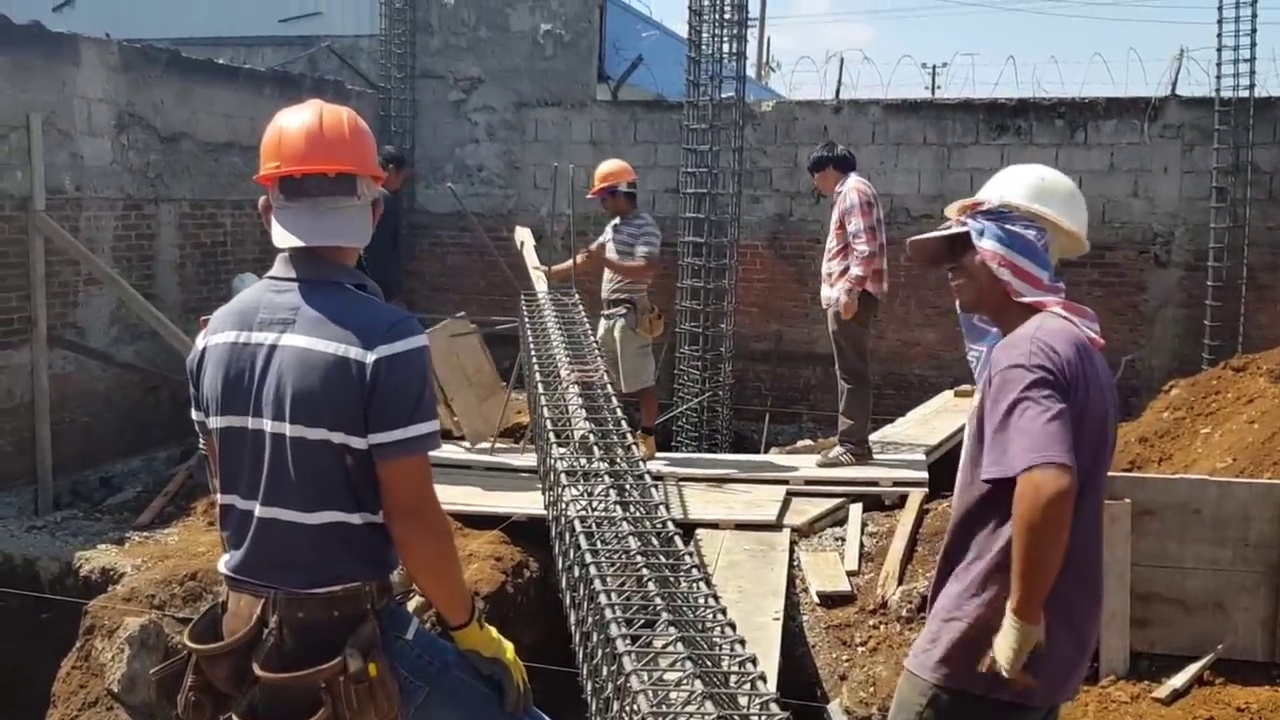helmet: (935, 167, 1096, 269), (253, 95, 390, 193), (589, 160, 638, 198)
helmet-off: (808, 143, 861, 197)
helmet-on: (252, 93, 398, 274), (941, 161, 1090, 334), (583, 158, 639, 223)
person: (187, 90, 527, 720), (904, 169, 1113, 720), (540, 157, 659, 457), (811, 136, 891, 490)
